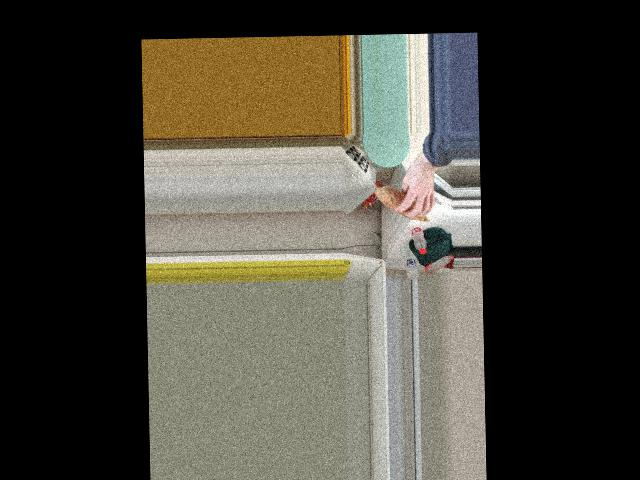sweet_potato: (376, 184, 431, 220)
